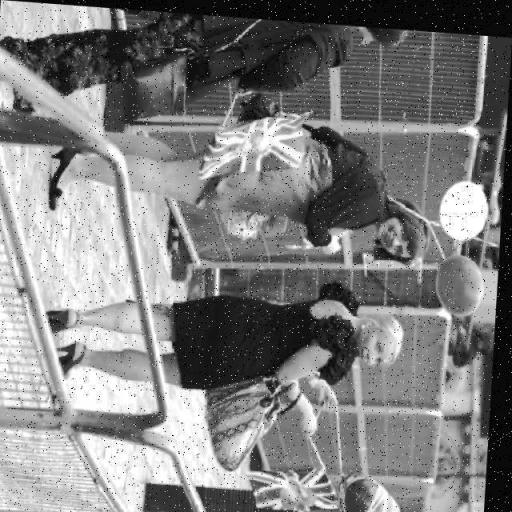balloon: (434, 244, 494, 314), (331, 461, 411, 512), (436, 170, 496, 236)
